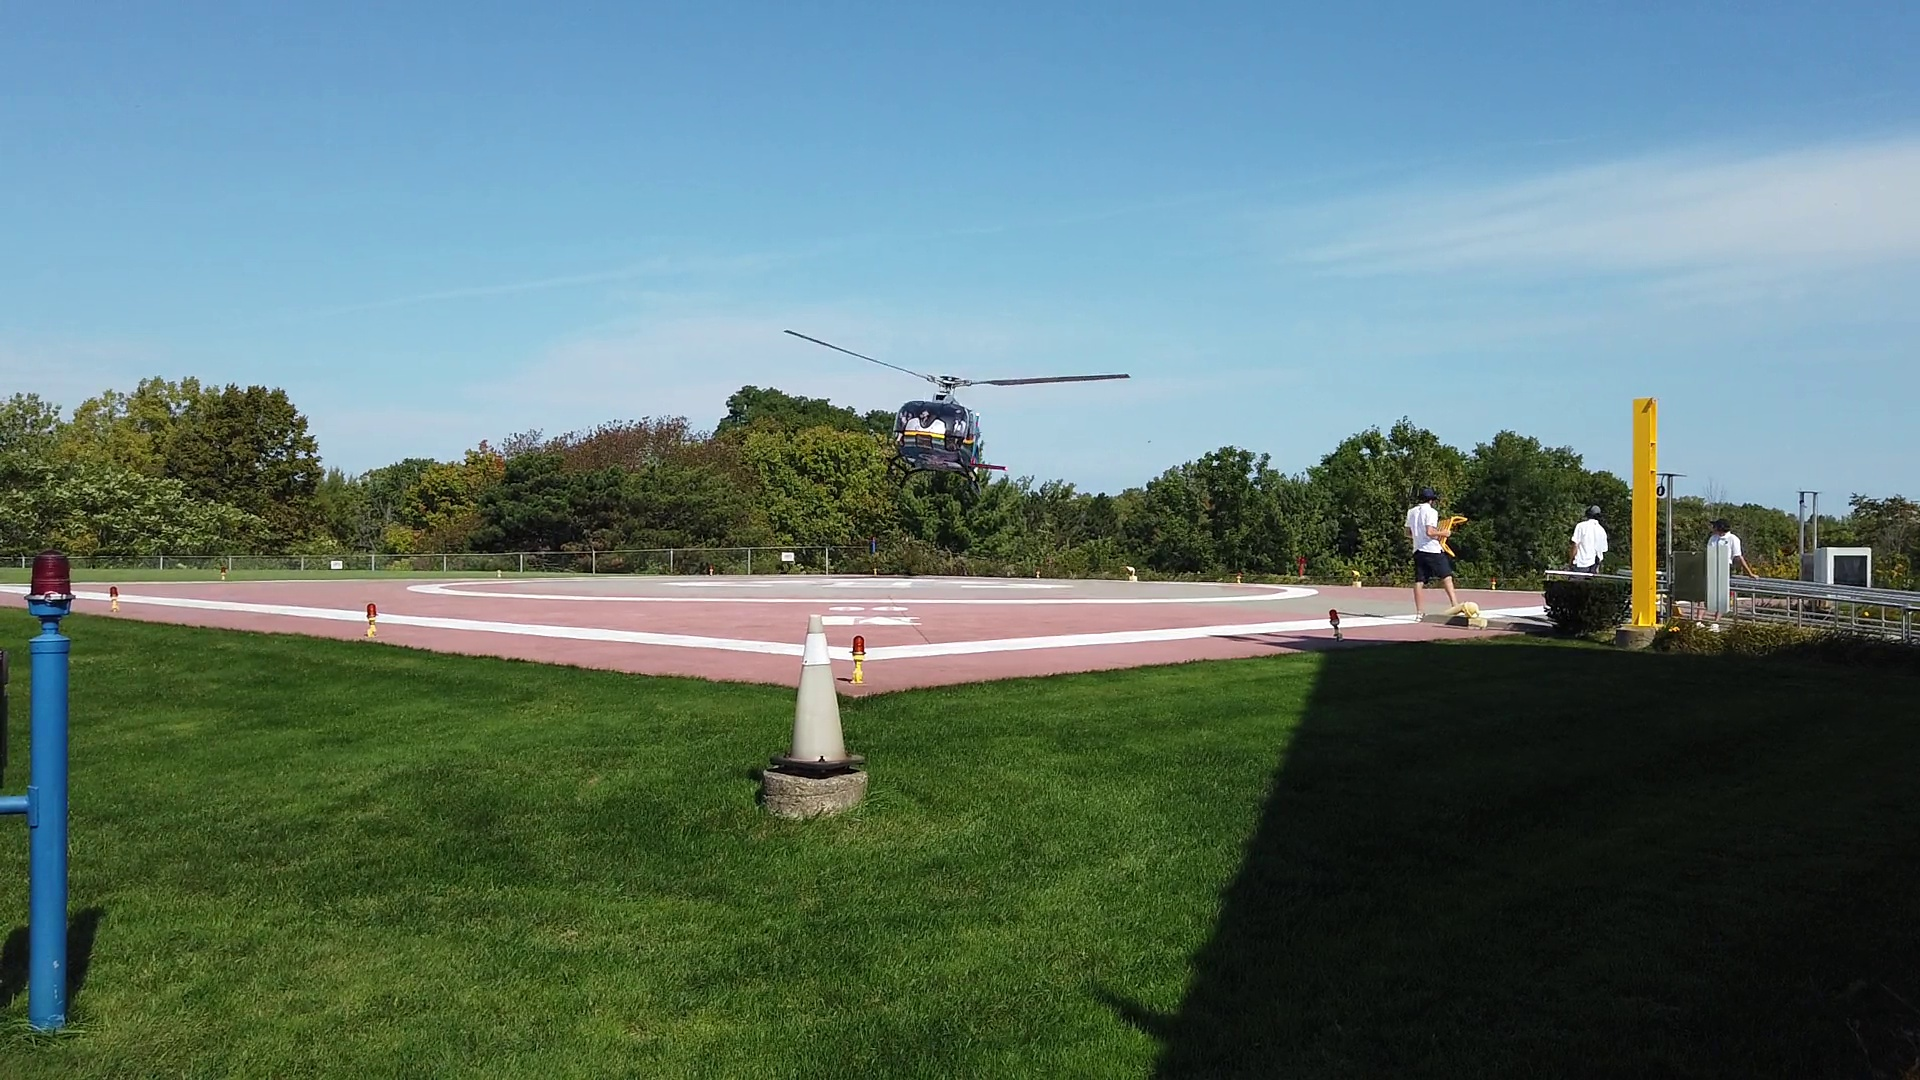heli: (781, 324, 1131, 496)
